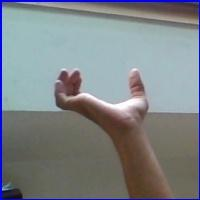B: (49, 62, 155, 138)
